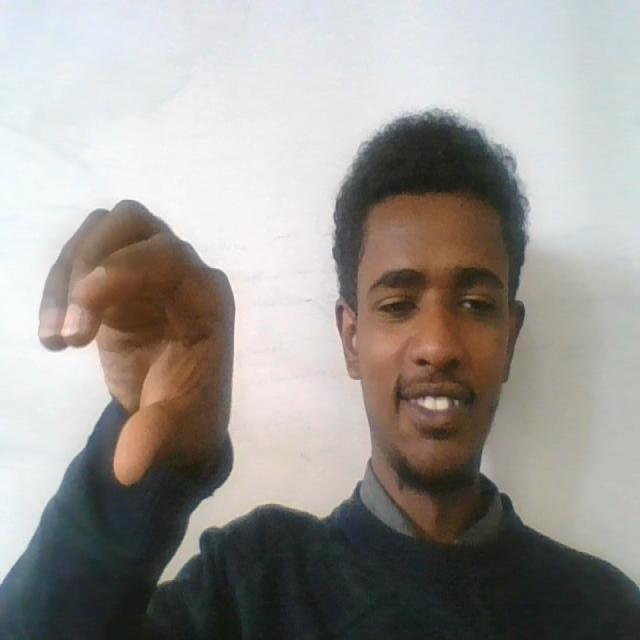no: (24, 191, 274, 489)
